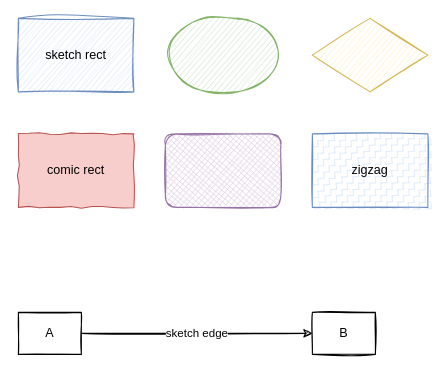
Some shapes in this 446 by 373 pixel diagram are drawn without their labels. The centre of each missing label's shape, as x and y in pixels:
cross-hatch: (222,170)
sketch ellipse: (222,54)
sketch rhombus: (369,54)
